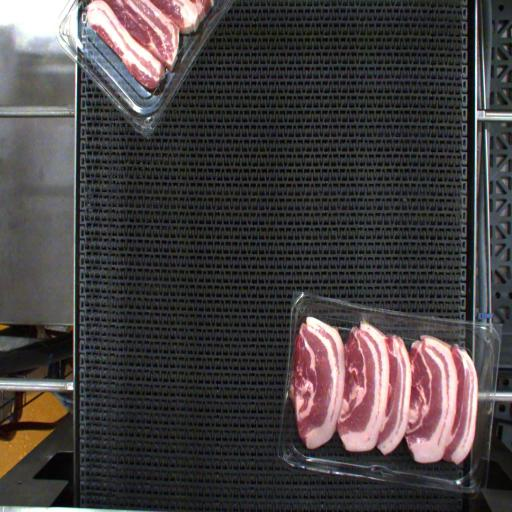packaging-error: (360, 309, 374, 326)
